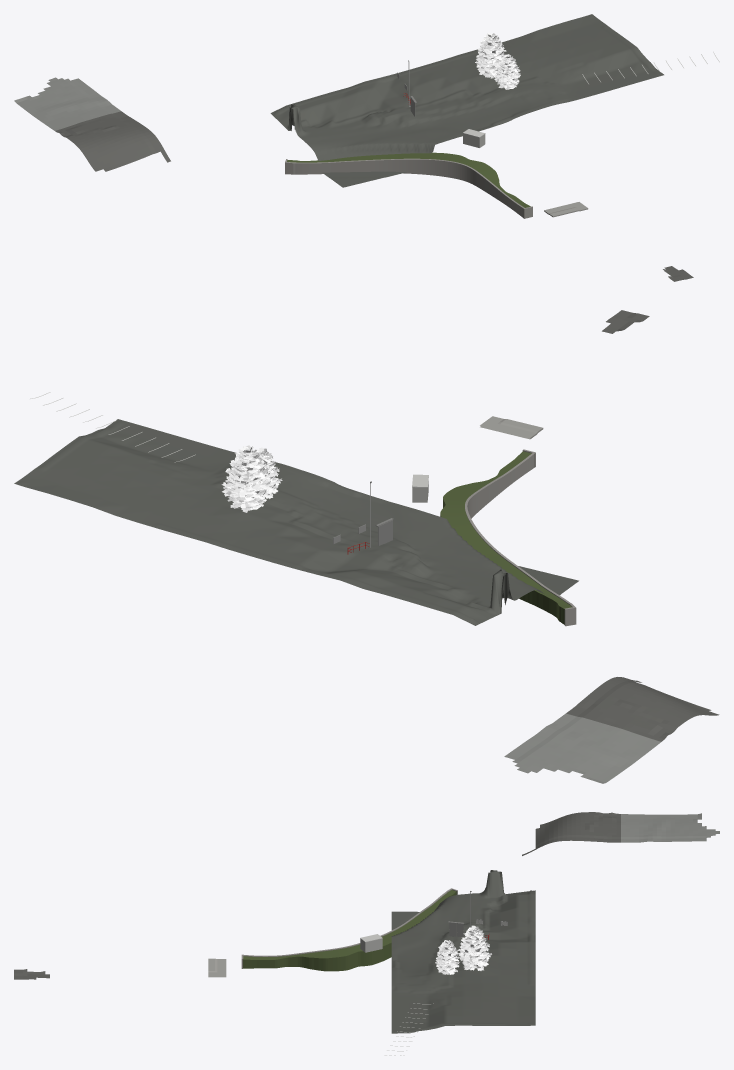
The picture shows the model from 3 angles, top to bottom: view 1: azimuth 30°, elevation 25°; view 2: azimuth 150°, elevation 25°; view 3: azimuth 270°, elevation 25°; orthographic projection. The views are drawn at different scales.
Visible parts, largest first — view 1: by2_stitch_cover_mh, bz_terrain_1m_ext_rhd_south, gq_SF_NE_retaining_wall, Tree_WhitePine_LOD1_Oct, gq_SF_NE_wall_bankfill; view 2: by2_stitch_cover_mh, bz_terrain_1m_ext_rhd_south, gq_SF_NE_wall_bankfill, Tree_WhitePine_LOD1_Oct, gq_SF_NE_retaining_wall, gs_SF_panzer_north_apron; view 3: by2_stitch_cover_mh, bz_terrain_1m_ext_rhd_south, gq_SF_NE_wall_bankfill, Tree_WhitePine_LOD1_Oct, gq_SF_NE_retaining_wall.
Boxes of the visible parts, <box> form: by2_stitch_cover_mh: <box>270,14,663,187</box>; bz_terrain_1m_ext_rhd_south: <box>14,77,693,281</box>; gq_SF_NE_retaining_wall: <box>285,158,532,218</box>; Tree_WhitePine_LOD1_Oct: <box>475,33,520,89</box>; gq_SF_NE_wall_bankfill: <box>287,152,530,207</box>; by2_stitch_cover_mh: <box>14,419,578,625</box>; bz_terrain_1m_ext_rhd_south: <box>504,310,719,783</box>; gq_SF_NE_wall_bankfill: <box>440,451,571,624</box>; Tree_WhitePine_LOD1_Oct: <box>221,445,282,512</box>; gq_SF_NE_retaining_wall: <box>465,449,576,626</box>; gs_SF_panzer_north_apron: <box>480,416,543,439</box>; by2_stitch_cover_mh: <box>391,870,535,1033</box>; bz_terrain_1m_ext_rhd_south: <box>14,812,719,979</box>; gq_SF_NE_wall_bankfill: <box>243,890,456,971</box>; Tree_WhitePine_LOD1_Oct: <box>435,925,491,974</box>; gq_SF_NE_retaining_wall: <box>241,888,457,968</box>.
Bounding box in the file's own units: 140 × 19.27 × 157.
